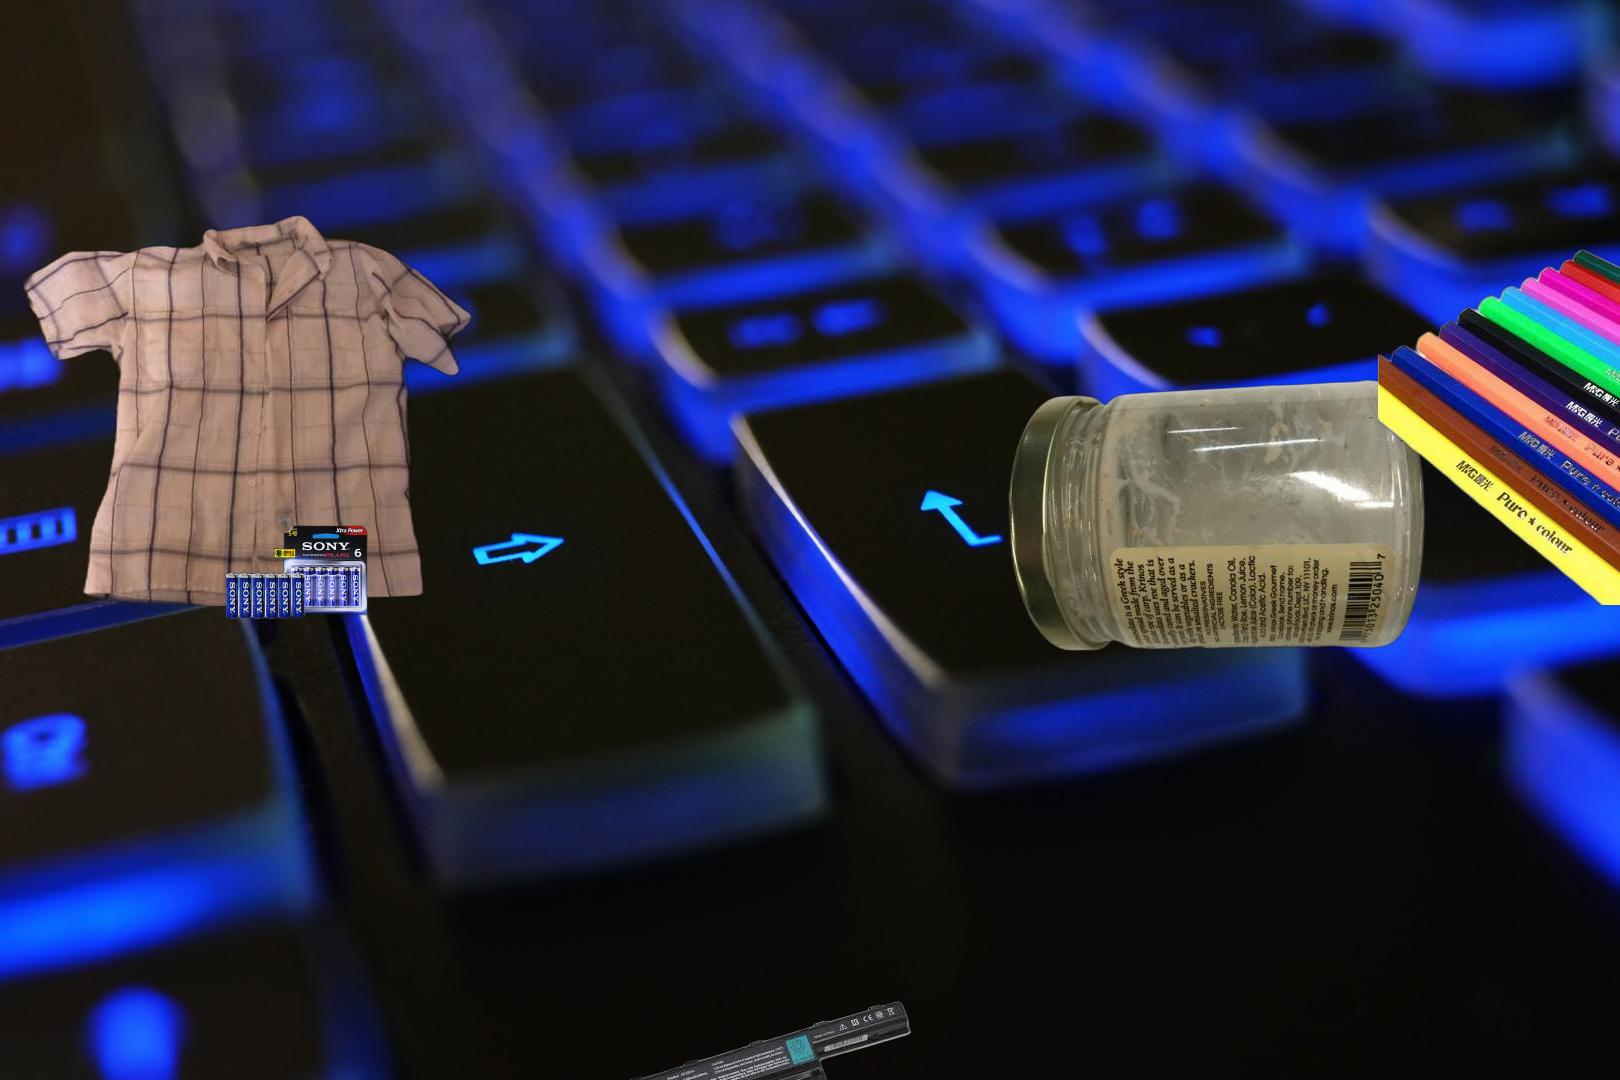battery: (607, 999, 914, 1080), (217, 470, 370, 622)
clothes: (16, 212, 479, 606)
glass: (1005, 372, 1430, 655)
penholder: (1378, 245, 1620, 605)
